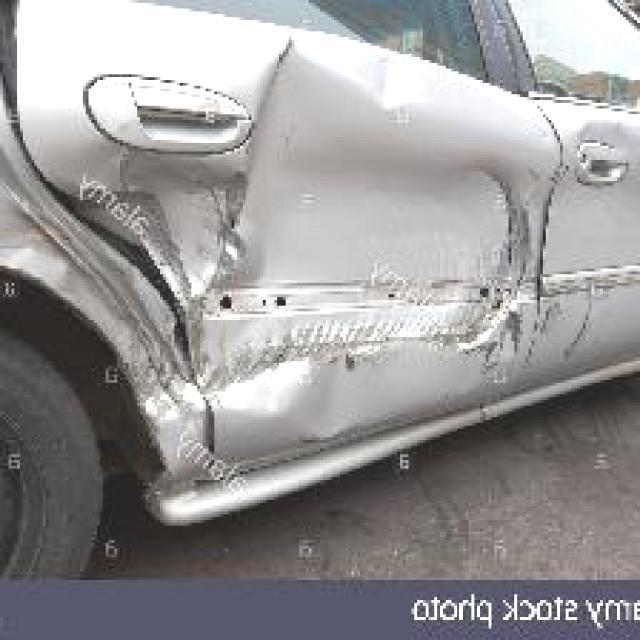minor: (47, 8, 564, 472), (521, 293, 594, 368)
moderate: (576, 109, 640, 188)
